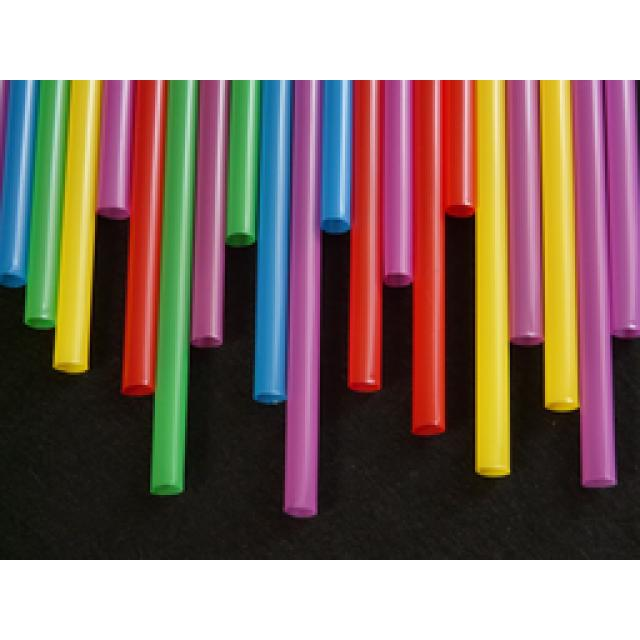plastic: (0, 77, 638, 515)
